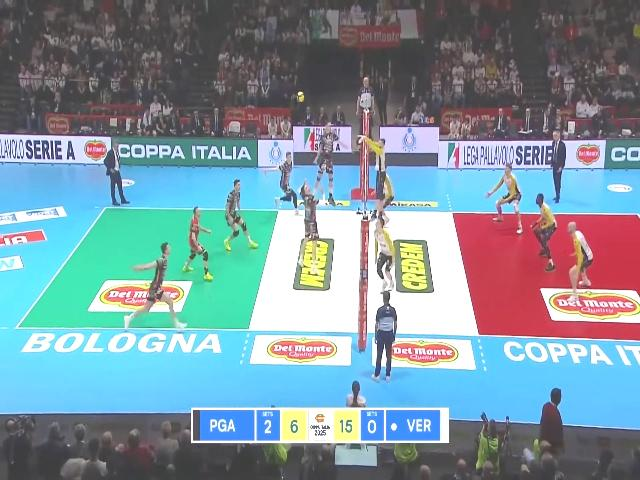volleyball court: (13, 206, 640, 340)
